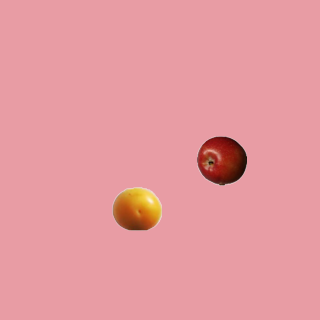Apple Braeburn: (196, 135, 246, 185)
Cherry Wax Yellow: (111, 183, 161, 233)
